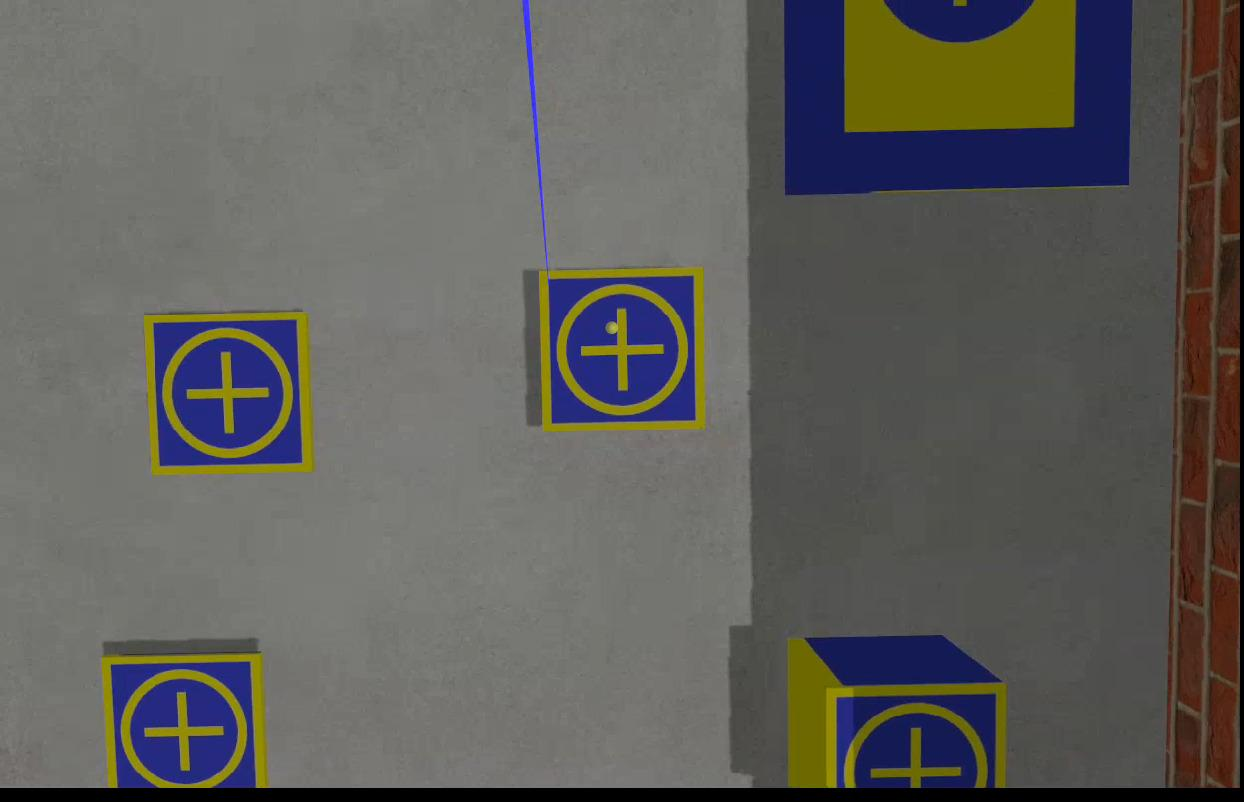large_base: (776, 1, 1132, 199)
small_base: (143, 312, 316, 479), (538, 268, 708, 436), (105, 652, 265, 789), (826, 686, 1006, 790)
